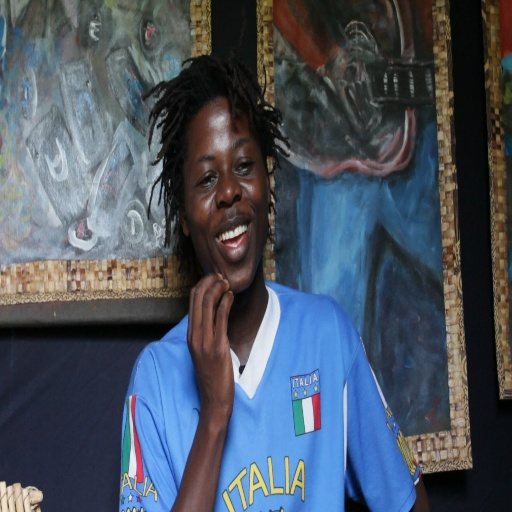hand: (179, 263, 240, 410)
